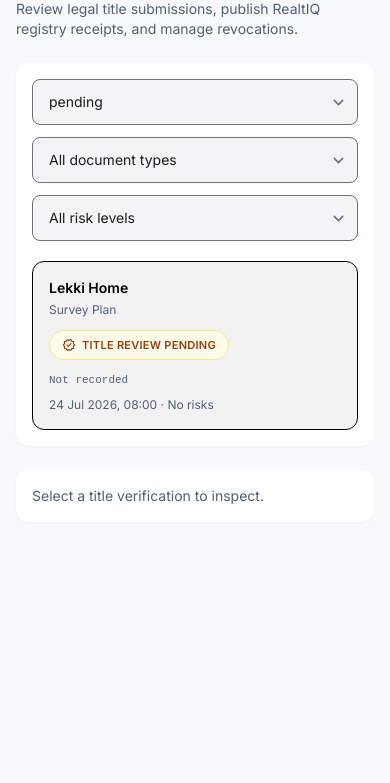
title verification step-up boundary › does not submit a decision merely by opening the review screen
Click the button "Lekki Home": click(195, 345) [32,261,358,430]
(page scrolled)
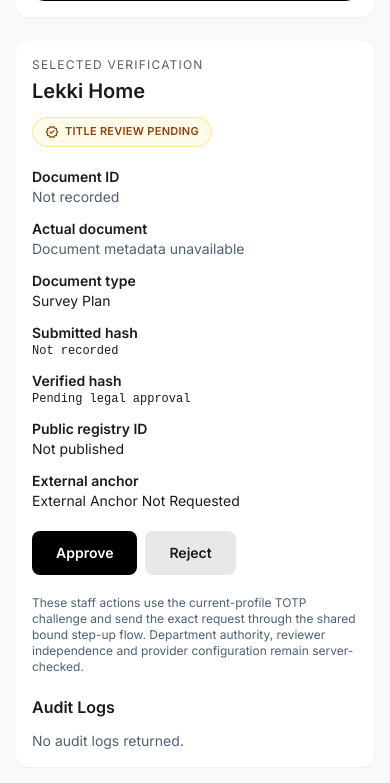
Expected: the heading "Lekki Home" is shown, [32,78,145,102]
Expected: the button "Approve" is enabled, [32,530,137,574]
Expected: the button "Reject" is enabled, [145,530,236,574]
